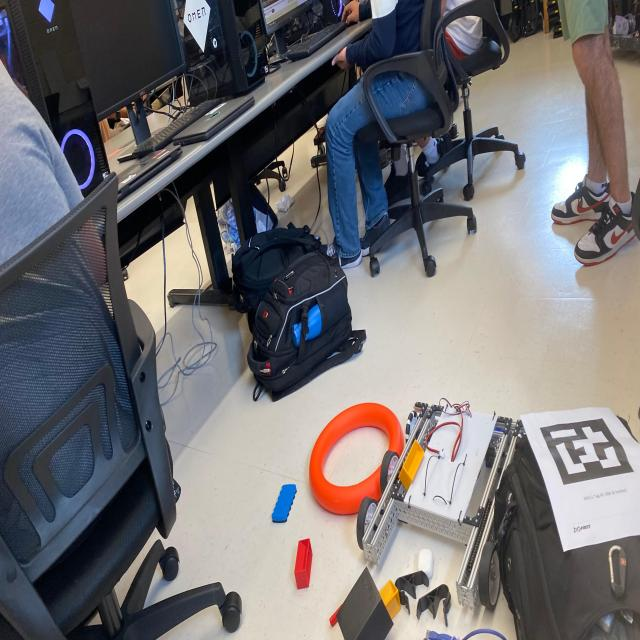red-specimen: (294, 539, 312, 589)
yellow-specimen: (398, 440, 424, 490), (379, 580, 401, 619)
